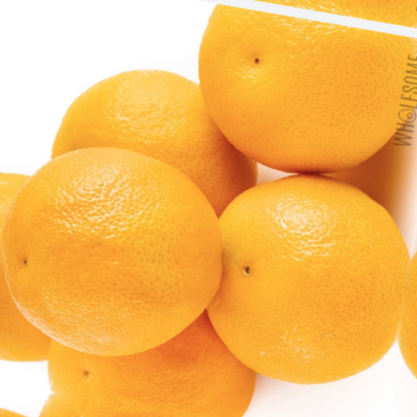orange: (182, 126, 417, 410), (0, 117, 243, 382), (146, 0, 417, 195)
